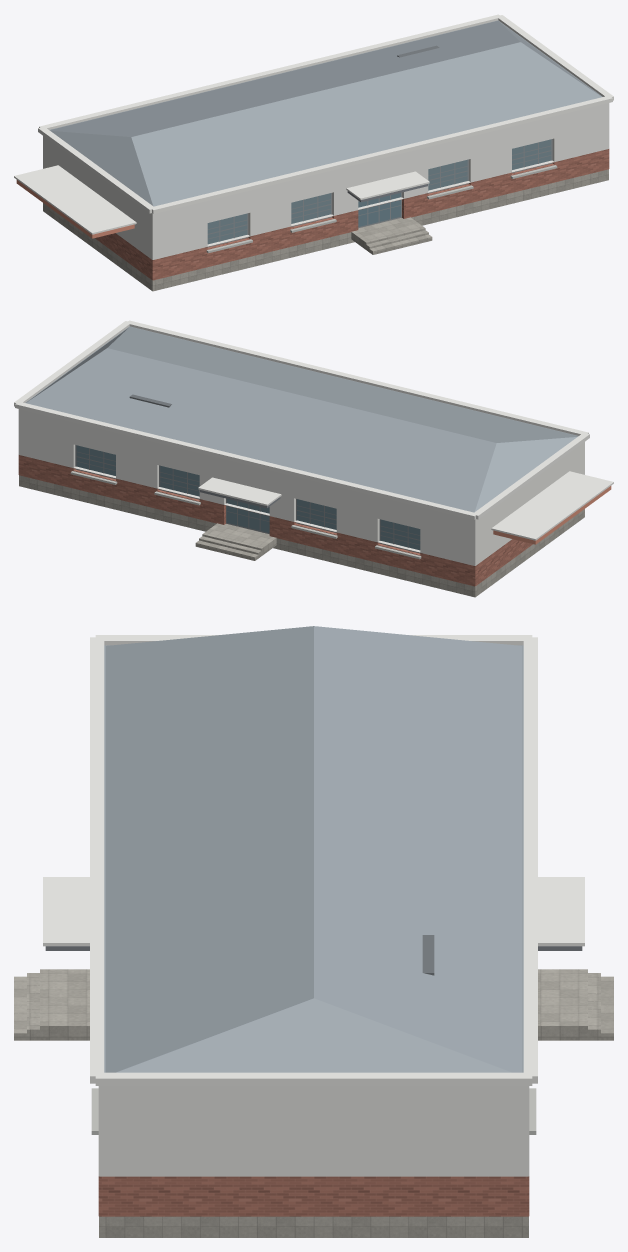
3 views of the same model, one above another, from view 1: azimuth 30°, elevation 25°; view 2: azimuth 150°, elevation 25°; view 3: azimuth 270°, elevation 25° (orthographic). The views are drawn at different scales.
Parts seen in each view (by area): view 1: south-pavilion__metalroof, south-pavilion__panel, south-pavilion__cap, south-pavilion__redbrick, south-pavilion__stone, south-pavilion__sideglass, south-pavilion__frame, south-pavilion__stair-front, south-pavilion__glass, south-pavilion__threshold-front, south-pavilion__sill, south-pavilion__terracotta; view 2: south-pavilion__metalroof, south-pavilion__panel, south-pavilion__cap, south-pavilion__redbrick, south-pavilion__stone, south-pavilion__glass, south-pavilion__frame, south-pavilion__stair-field-north, south-pavilion__threshold-field-north, south-pavilion__sill, south-pavilion__terracotta; view 3: south-pavilion__metalroof, south-pavilion__panel, south-pavilion__cap, south-pavilion__redbrick, south-pavilion__stone, south-pavilion__stair-field-north, south-pavilion__stair-front, south-pavilion__threshold-field-north, south-pavilion__threshold-front.
Boxes of the visible parts, x1,y1,x2,y2 form: south-pavilion__metalroof: [49, 20, 602, 206]; south-pavilion__panel: [43, 103, 609, 259]; south-pavilion__cap: [14, 14, 613, 234]; south-pavilion__redbrick: [95, 149, 609, 280]; south-pavilion__stone: [43, 169, 608, 291]; south-pavilion__sideglass: [207, 139, 551, 244]; south-pavilion__frame: [207, 139, 552, 247]; south-pavilion__stair-front: [363, 226, 432, 254]; south-pavilion__glass: [358, 193, 400, 226]; south-pavilion__threshold-front: [351, 217, 421, 247]; south-pavilion__sill: [206, 165, 557, 253]; south-pavilion__terracotta: [16, 180, 134, 238]; south-pavilion__metalroof: [25, 326, 578, 512]; south-pavilion__panel: [18, 409, 584, 565]; south-pavilion__cap: [14, 320, 613, 540]; south-pavilion__redbrick: [18, 455, 532, 586]; south-pavilion__stone: [19, 475, 584, 597]; south-pavilion__glass: [76, 445, 420, 550]; south-pavilion__frame: [75, 445, 420, 553]; south-pavilion__stair-field-north: [195, 532, 264, 560]; south-pavilion__threshold-field-north: [206, 523, 276, 553]; south-pavilion__sill: [70, 471, 421, 559]; south-pavilion__terracotta: [493, 486, 611, 544]; south-pavilion__metalroof: [104, 626, 523, 1072]; south-pavilion__panel: [98, 1086, 529, 1176]; south-pavilion__cap: [43, 635, 584, 1085]; south-pavilion__redbrick: [98, 1176, 529, 1216]; south-pavilion__stone: [99, 1216, 528, 1237]; south-pavilion__stair-field-north: [574, 969, 613, 1040]; south-pavilion__stair-front: [14, 969, 53, 1040]; south-pavilion__threshold-field-north: [538, 969, 574, 1040]; south-pavilion__threshold-front: [53, 969, 89, 1040].
Bounding box in the file's own units: 33.2 × 6.66 × 17.44.
13 materials, 2 textured.
